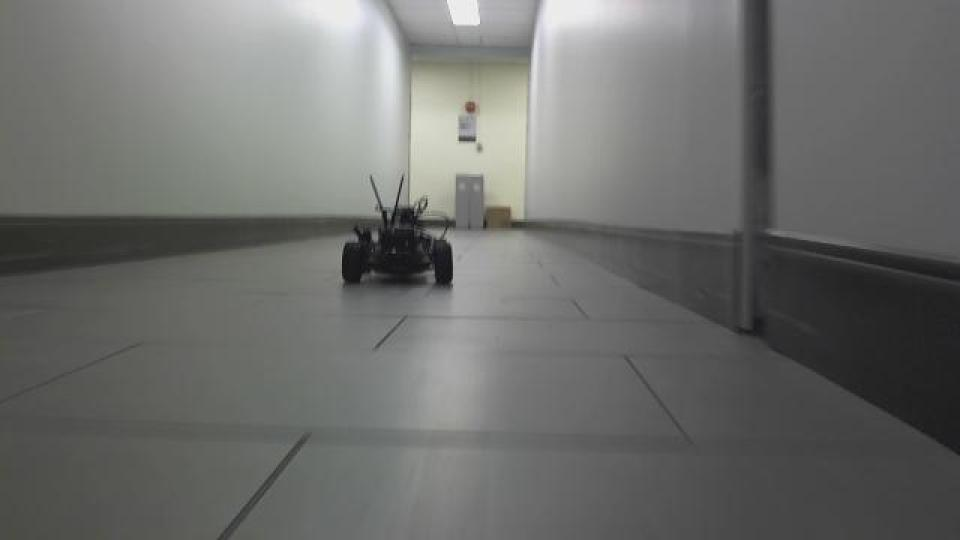car: (336, 170, 458, 290)
